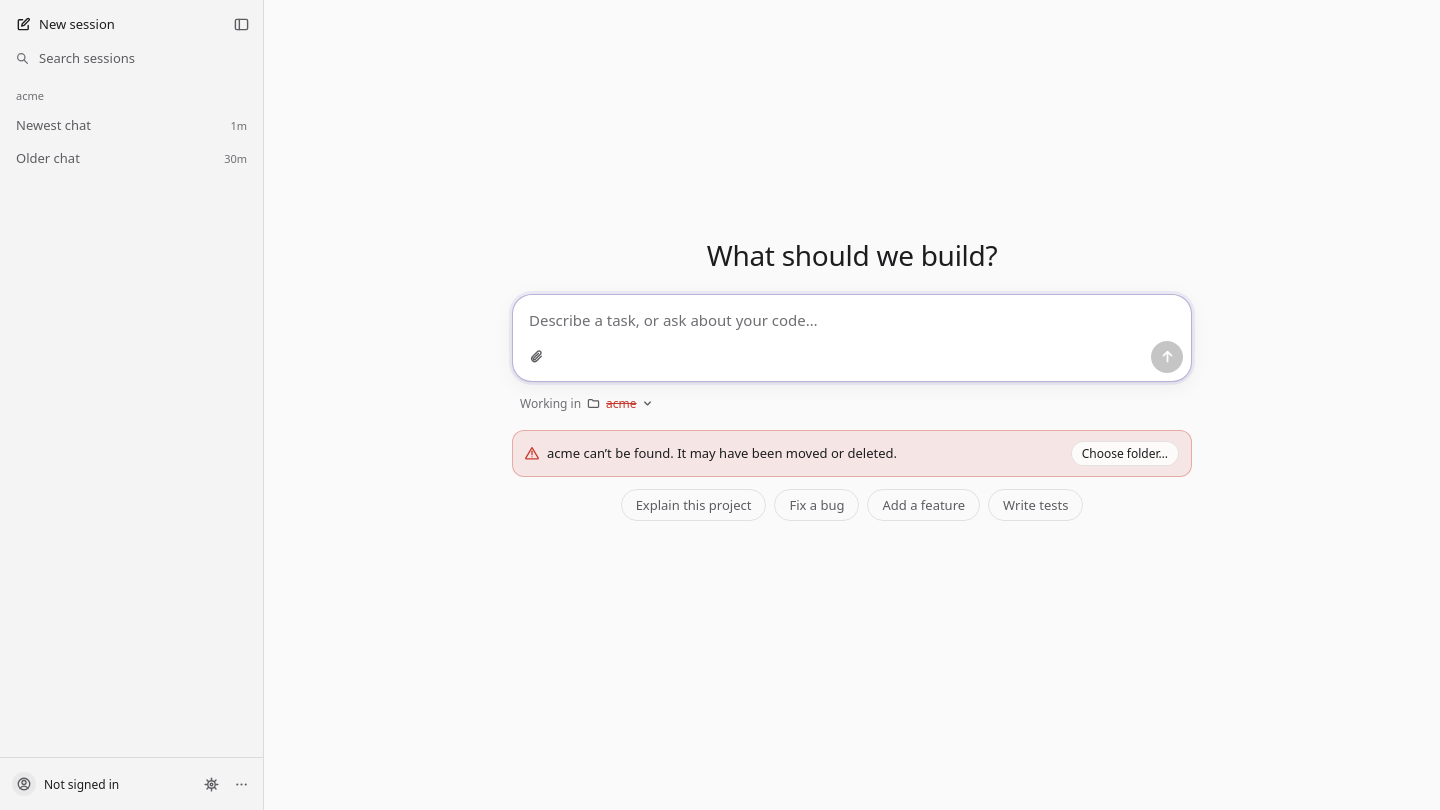
Test: the shell › refuses to start in a folder that no longer exists
The width and height of the screenshot is (1440, 810).
Type "hello" into the text box with placeholder "Describe a task, or ask about your code…" at (852,316), box x1=513 y1=295 x2=1191 y2=337
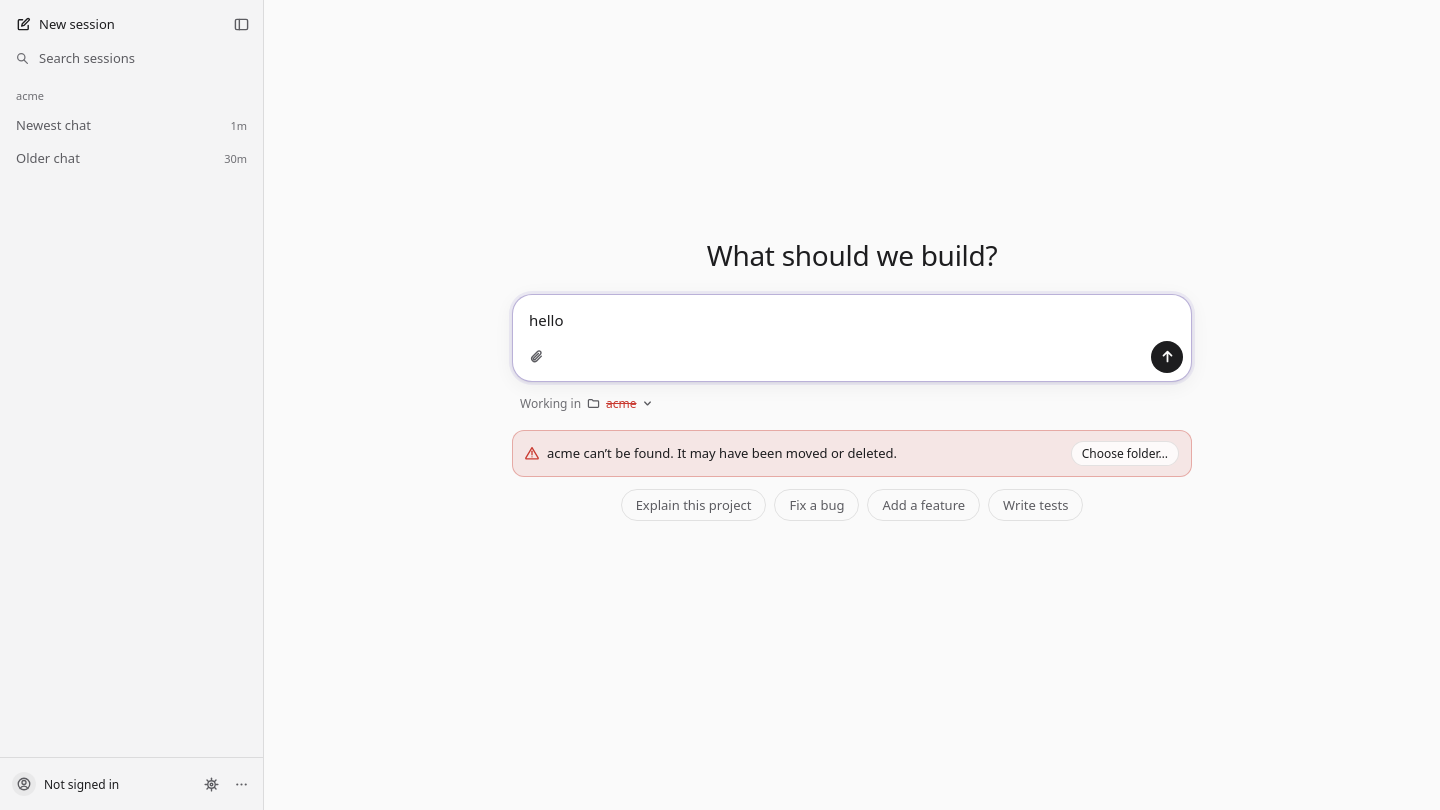
Press Enter in the text box with placeholder "Describe a task, or ask about your code…", box x1=513 y1=295 x2=1191 y2=337
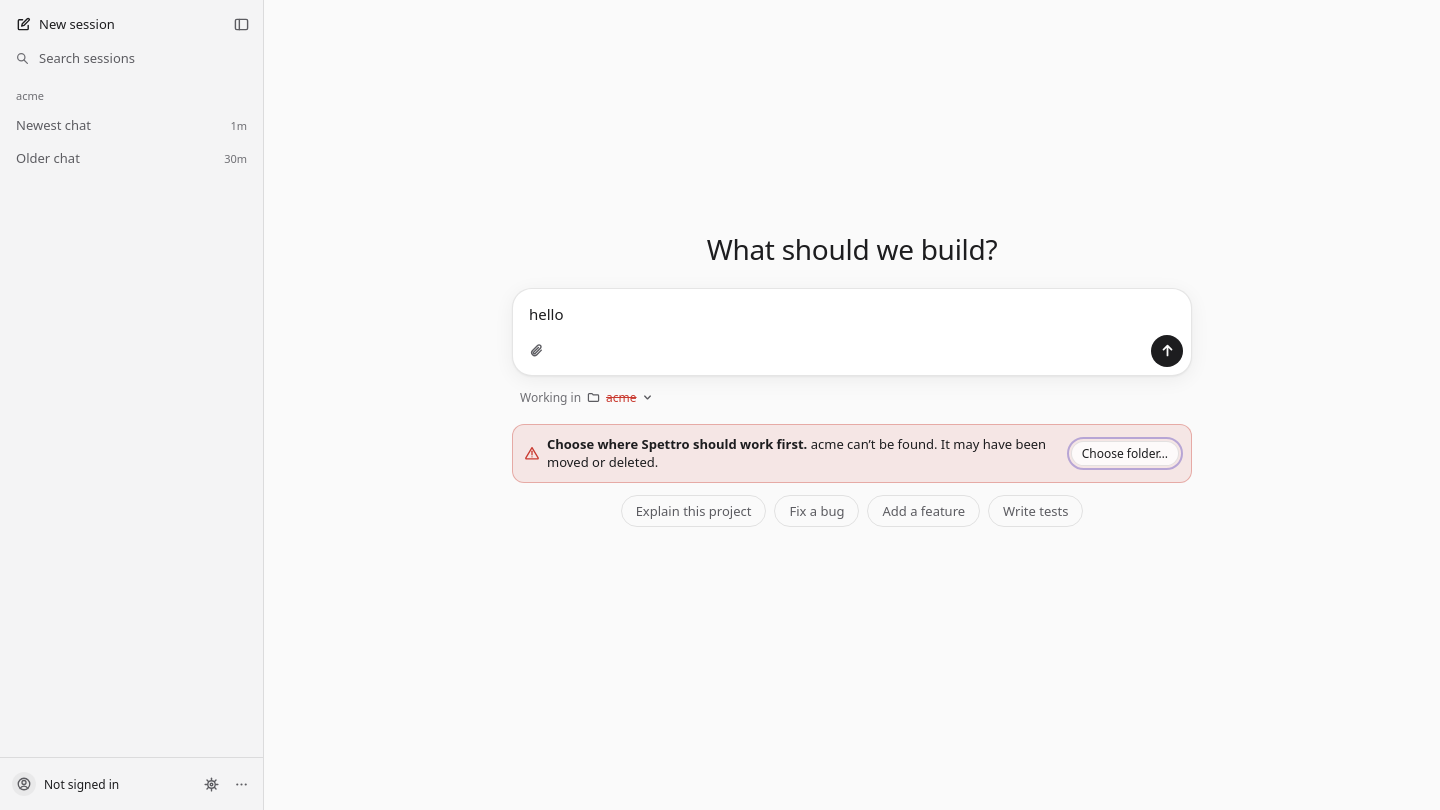
Expected: the message shows "can’t be found", x1=547 y1=435 x2=1046 y2=471
